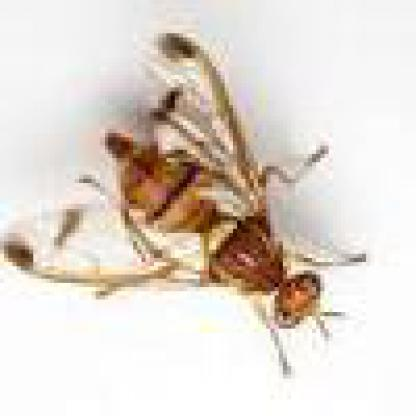fruit fly: (4, 30, 368, 333)
